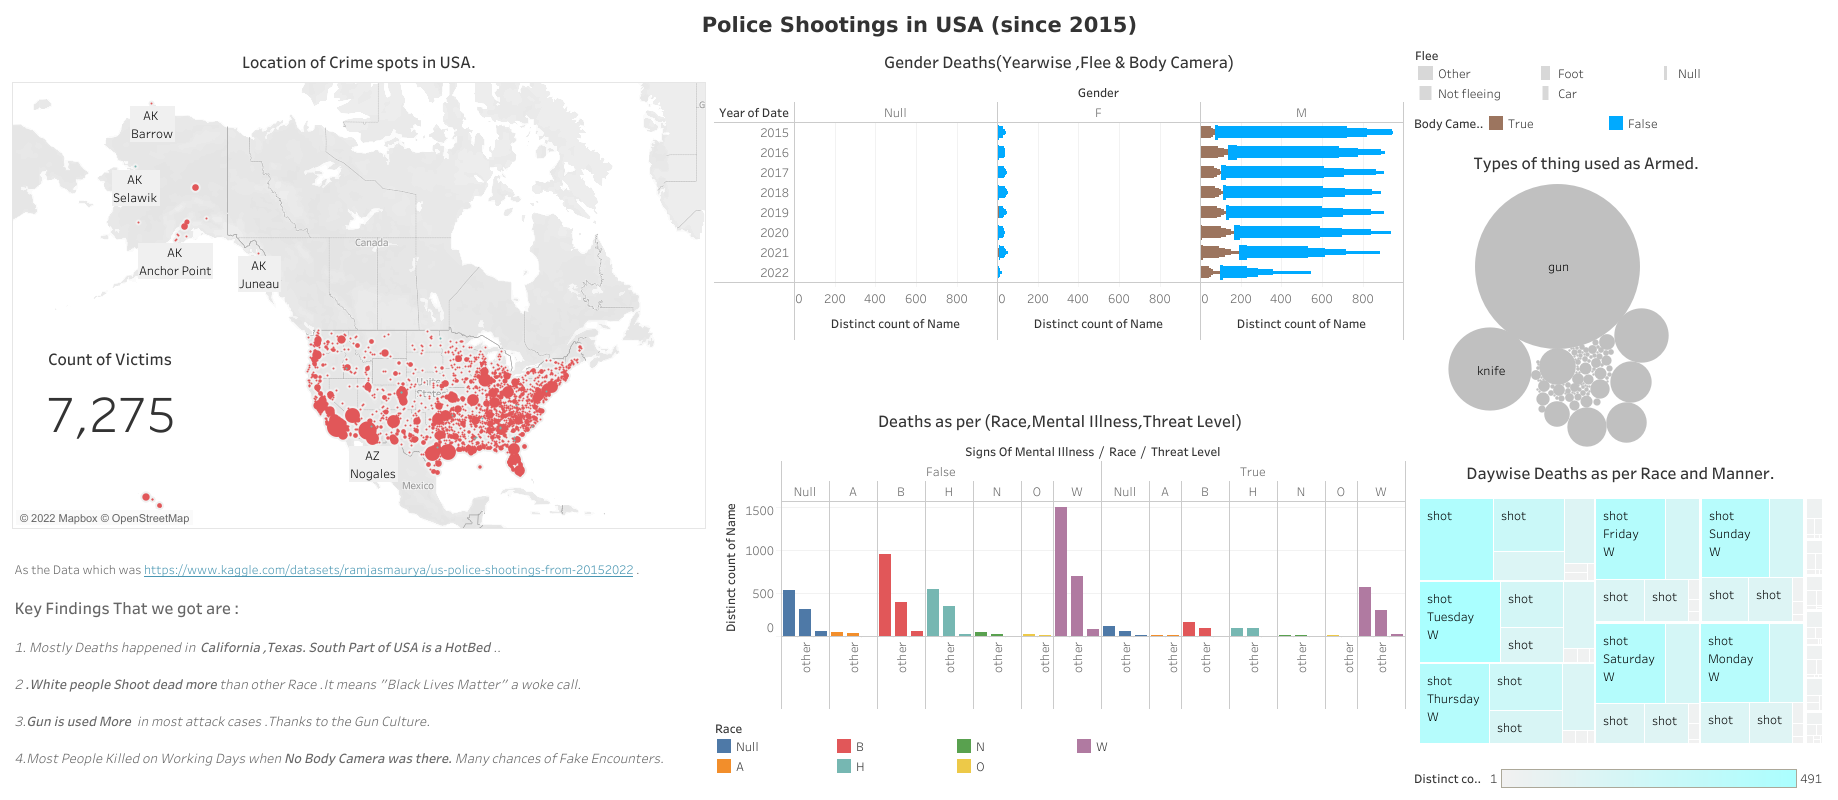

What the dashboard file says about the page in this screenshot:
{"tool":"tableau","page":{"name":"Police Shootings in USA (since 2016)","canvas":[1000,1000],"units":"permille","ordinal":0},"visuals":[{"type":"title","box":[4.7,10.2,990.6,40.8]},{"type":"worksheet","title":"Location of Crime Spots in USA","mark":"Automatic","rows":["latitude"],"cols":["longitude"],"box":[4.7,51,330,615.3]},{"type":"worksheet","title":"Sheet 5","mark":"Bar","rows":["date"],"cols":["gender","name"],"box":[334.7,51,412.5,457.3]},{"type":"legend","title":"Sheet 5","param":"[federated.0p3kdjm1xx1v8b150cl2c0orsnsn].[none:flee:nk]","box":[747.2,51,248.1,87.9]},{"type":"legend","title":"Sheet 5","param":"[federated.0p3kdjm1xx1v8b150cl2c0orsnsn].[none:body_camera:nk]","box":[747.2,138.8,248.1,40.8]},{"type":"worksheet","title":"Sheet 4","mark":"Circle","box":[747.2,179.6,248.1,384.7]},{"type":"worksheet","title":"Sheet 8","mark":"Automatic","box":[21.8,425.5,96,138.8]},{"type":"worksheet","title":"Sheet 6","mark":"Automatic","rows":["name"],"cols":["signs_of_mental_illness","race","threat_level"],"box":[334.7,508.3,412.5,379.6]},{"type":"worksheet","title":"Sheet 3","mark":"Automatic","box":[747.2,564.3,248.1,384.7]},{"type":"text","box":[4.7,666.2,330,323.6]},{"type":"legend","title":"Sheet 6","param":"[federated.0p3kdjm1xx1v8b150cl2c0orsnsn].[none:race:nk]","box":[334.7,887.9,412.5,101.9]},{"type":"legend","title":"Sheet 3","param":"[federated.0p3kdjm1xx1v8b150cl2c0orsnsn].[ctd:name:qk]","box":[747.2,949.1,248.1,40.8]}]}

Visuals, with their boxes on the dashboard's canvas, which has no fixed pixel size, in thousandths of its width and height (x1, y1, x2, y2). These are canvas units, not pixel positions in the 1838x800 screenshot, which may show the page scaled, cropped or inside an application window:
title: locate(5, 10, 995, 51)
"Location of Crime Spots in USA" worksheet: locate(5, 51, 335, 666)
"Sheet 5" worksheet (Bar marks): locate(335, 51, 747, 508)
"Sheet 5" legend: locate(747, 51, 995, 139)
"Sheet 5" legend: locate(747, 139, 995, 180)
"Sheet 4" worksheet (Circle marks): locate(747, 180, 995, 564)
"Sheet 8" worksheet: locate(22, 426, 118, 564)
"Sheet 6" worksheet: locate(335, 508, 747, 888)
"Sheet 3" worksheet: locate(747, 564, 995, 949)
text: locate(5, 666, 335, 990)
"Sheet 6" legend: locate(335, 888, 747, 990)
"Sheet 3" legend: locate(747, 949, 995, 990)
